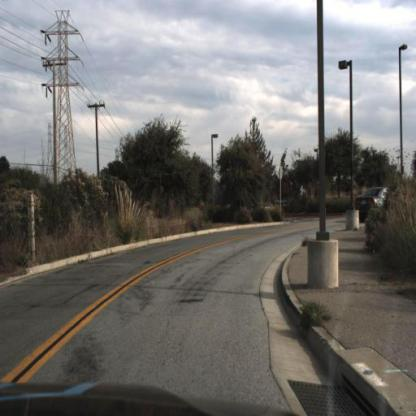car: (355, 183, 396, 218)
